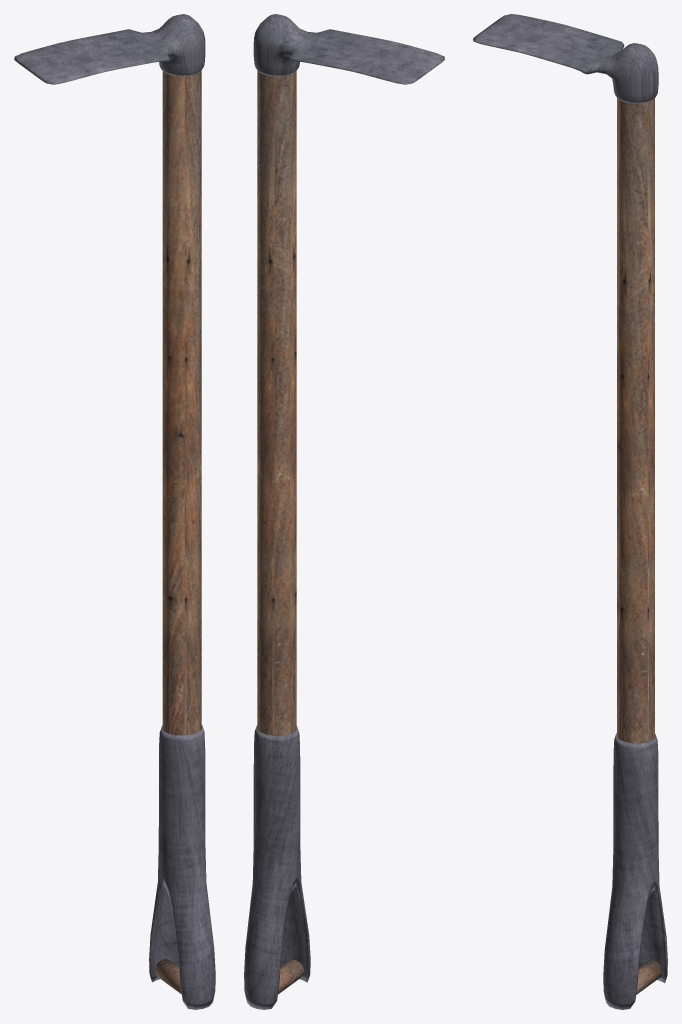
Rendered from gardening hoe.fbx.
The picture shows the model from 3 angles, left to right: view 1: azimuth 30°, elevation 25°; view 2: azimuth 150°, elevation 25°; view 3: azimuth 330°, elevation 25°; orthographic projection. The views are drawn at different scales.
Visible parts, largest first — view 1: "gardening tool", "gardening tool".002, "gardening tool".001; view 2: "gardening tool", "gardening tool".002, "gardening tool".001; view 3: "gardening tool", "gardening tool".002, "gardening tool".001.
Part boxes in pixels (x1,y1,x2,y2): "gardening tool": (155,70,201,994); "gardening tool".002: (149,724,215,1009); "gardening tool".001: (14,14,205,84); "gardening tool": (257,70,303,994); "gardening tool".002: (244,725,310,1009); "gardening tool".001: (253,14,444,84); "gardening tool": (617,98,661,994); "gardening tool".002: (603,733,667,1009); "gardening tool".001: (473,14,658,103).
Bounding box in the file's own units: 25.17 × 136 × 10.91.
Materials: 2 (2 with a texture image).
